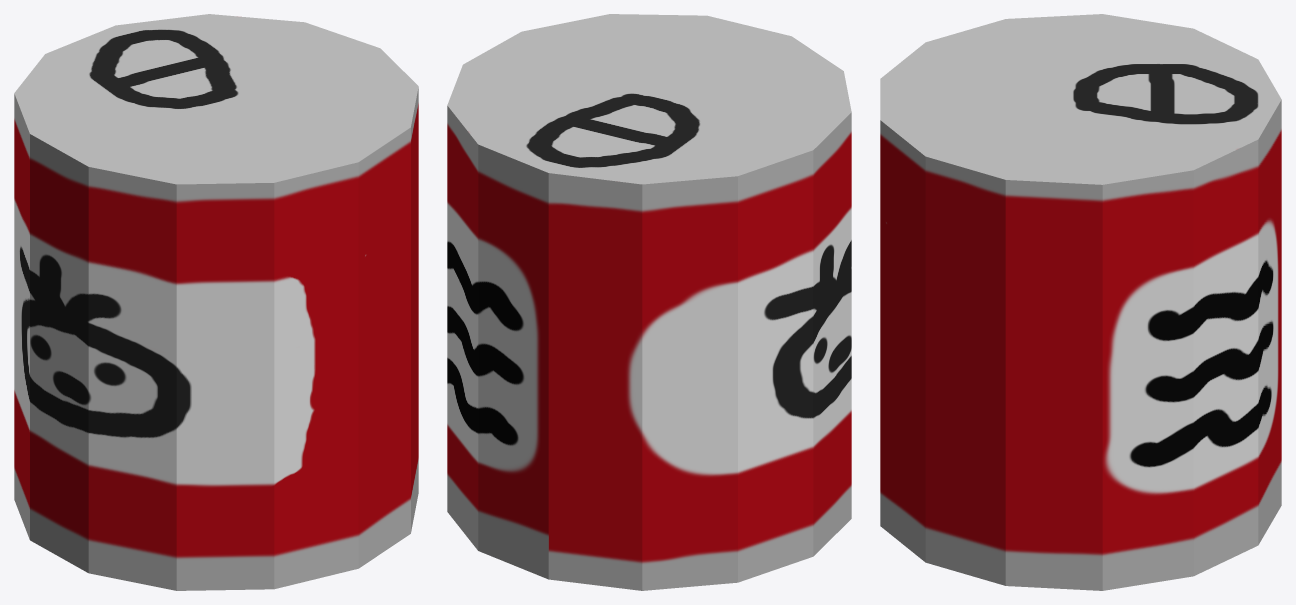
Rendered from Latinha.glb.
3 renders of one model, left to right at view 1: azimuth 30°, elevation 25°; view 2: azimuth 150°, elevation 25°; view 3: azimuth 270°, elevation 25°, orthographic.
Parts seen in each view (by area): view 1: Cylinder; view 2: Cylinder; view 3: Cylinder.
Part boxes in pixels (x1,y1,x2,y2): Cylinder: (14, 14, 418, 590); Cylinder: (447, 14, 851, 590); Cylinder: (880, 14, 1281, 590).
Size of the model in its own units: 1.99 by 2.2 by 1.97.
1 material, 1 textured.
